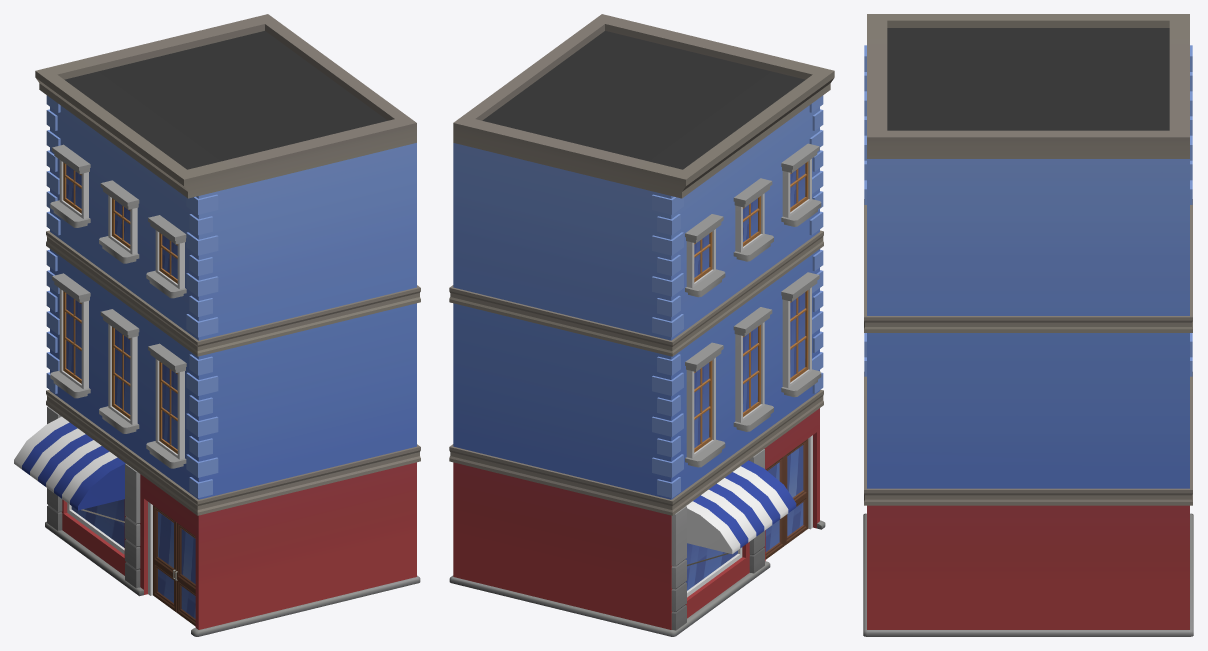
Rendered from Building_8_1_O.fbx.
The picture shows the model from 3 angles, left to right: view 1: azimuth 30°, elevation 25°; view 2: azimuth 150°, elevation 25°; view 3: azimuth 270°, elevation 25°; orthographic projection. The views are drawn at different scales.
Visible parts, largest first — view 1: Building 8_1_O; view 2: Building 8_1_O; view 3: Building 8_1_O.
Part boxes in pixels (x1,y1,x2,y2): Building 8_1_O: (14, 14, 420, 636); Building 8_1_O: (449, 14, 834, 636); Building 8_1_O: (863, 14, 1193, 636).
Size of the model in its own units: 681 by 1108 by 667.
